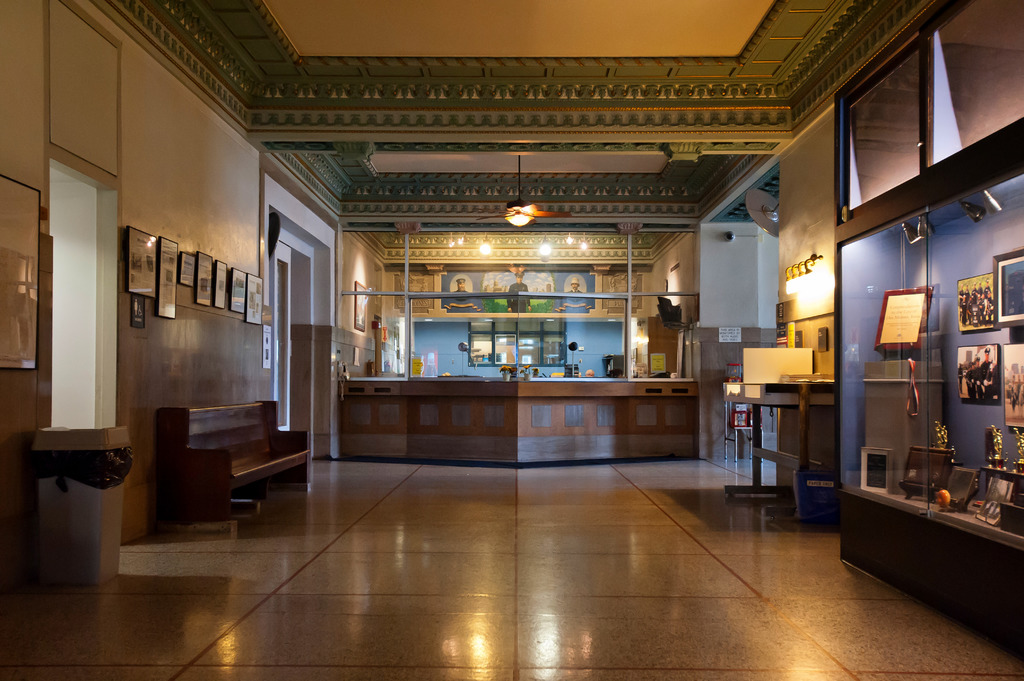Cabinetry: (344, 371, 701, 463)
